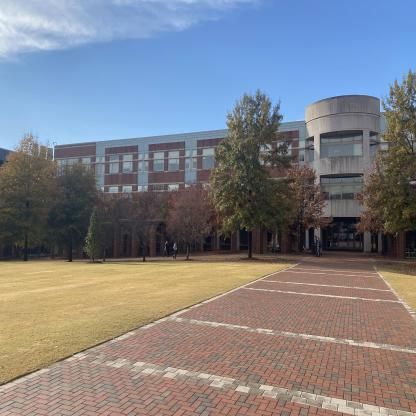EB-1: (49, 119, 415, 259)
